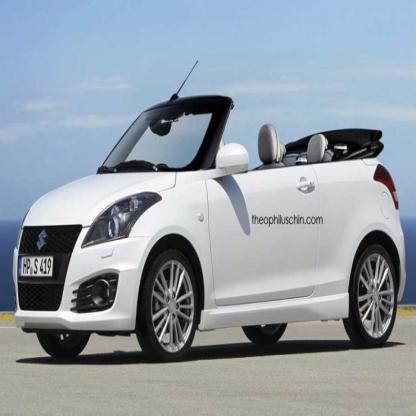car: (12, 92, 406, 357)
